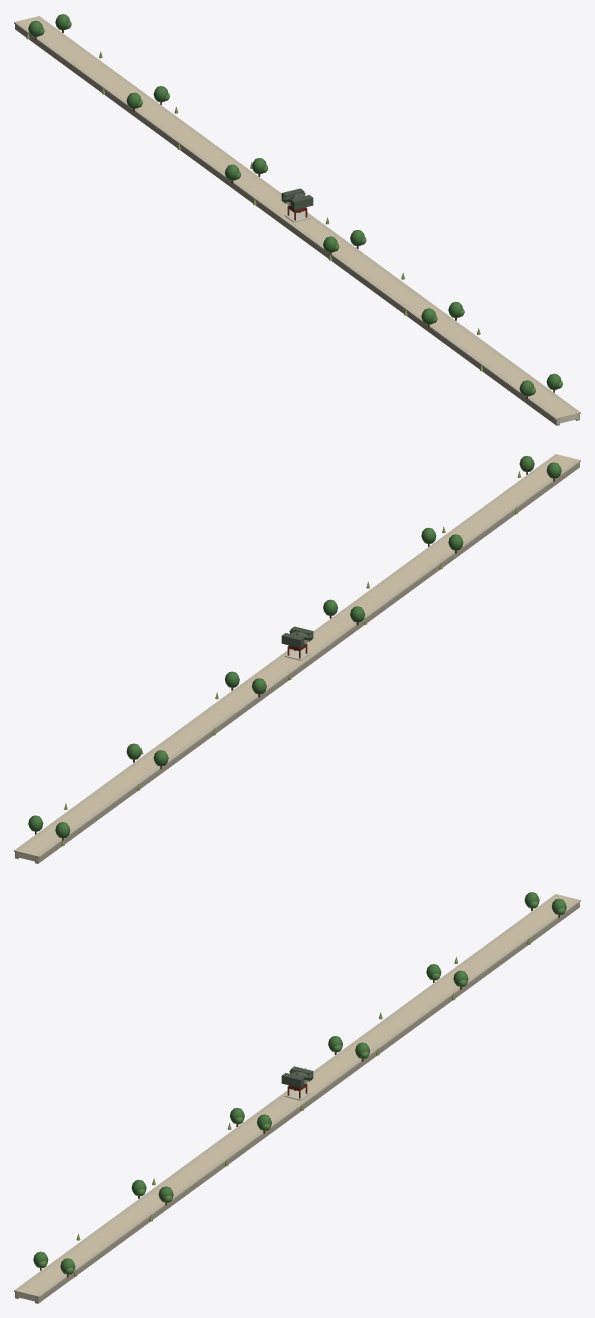
3 renders of one model, top to bottom at view 1: azimuth 30°, elevation 25°; view 2: azimuth 150°, elevation 25°; view 3: azimuth 330°, elevation 25°, orthographic.
Bounding box in the file's own units: 0.186 × 0.1375 × 4.3.
